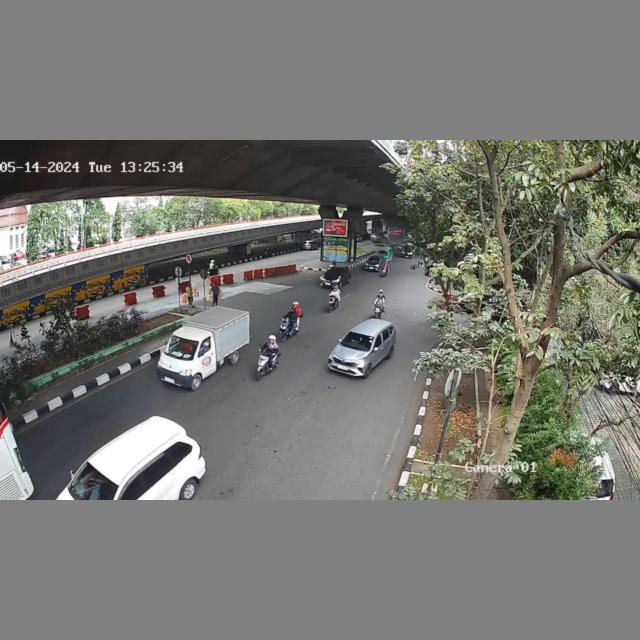windshield: (340, 330, 375, 353), (164, 335, 197, 359)
